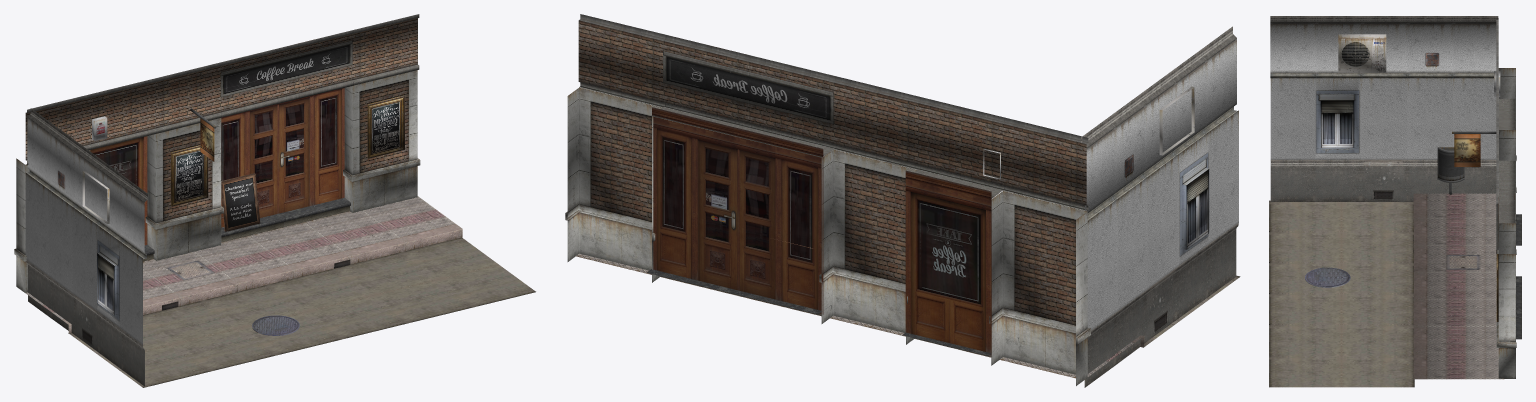
File: modular_environment.glb
3 views of the same model, side by side, from view 1: azimuth 30°, elevation 25°; view 2: azimuth 150°, elevation 25°; view 3: azimuth 270°, elevation 25° (orthographic). The views are drawn at different scales.
Visible parts, largest first — view 1: Environment; view 2: Environment; view 3: Environment.
Part boxes in pixels (x1,y1,x2,y2): Environment: (14,14,535,387); Environment: (565,14,1240,387); Environment: (1269,16,1521,387).
Bounding box in the file's own units: 803 × 378 × 457.
1 material, 1 textured.
